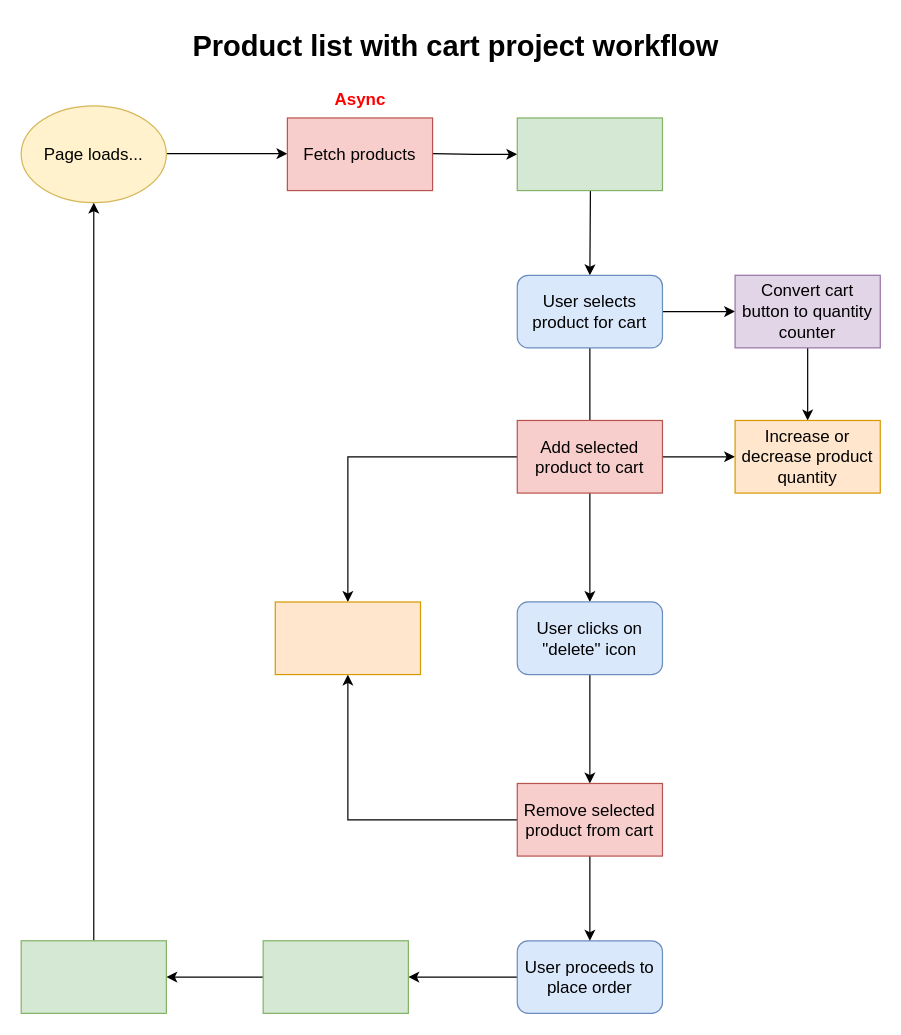
Some shapes in this 901 by 1035 pixel diagram are drawn without their labels. The centre of each missing label's shape, as x and y in pixels:
"Compute total price of cart items" belongs at pixel 347 638.
"Confirm order and finalize process" belongs at pixel 93 976.
"Render order summary in modal window" belongs at pixel 335 976.
"Render products on the UI" belongs at pixel 589 154.
